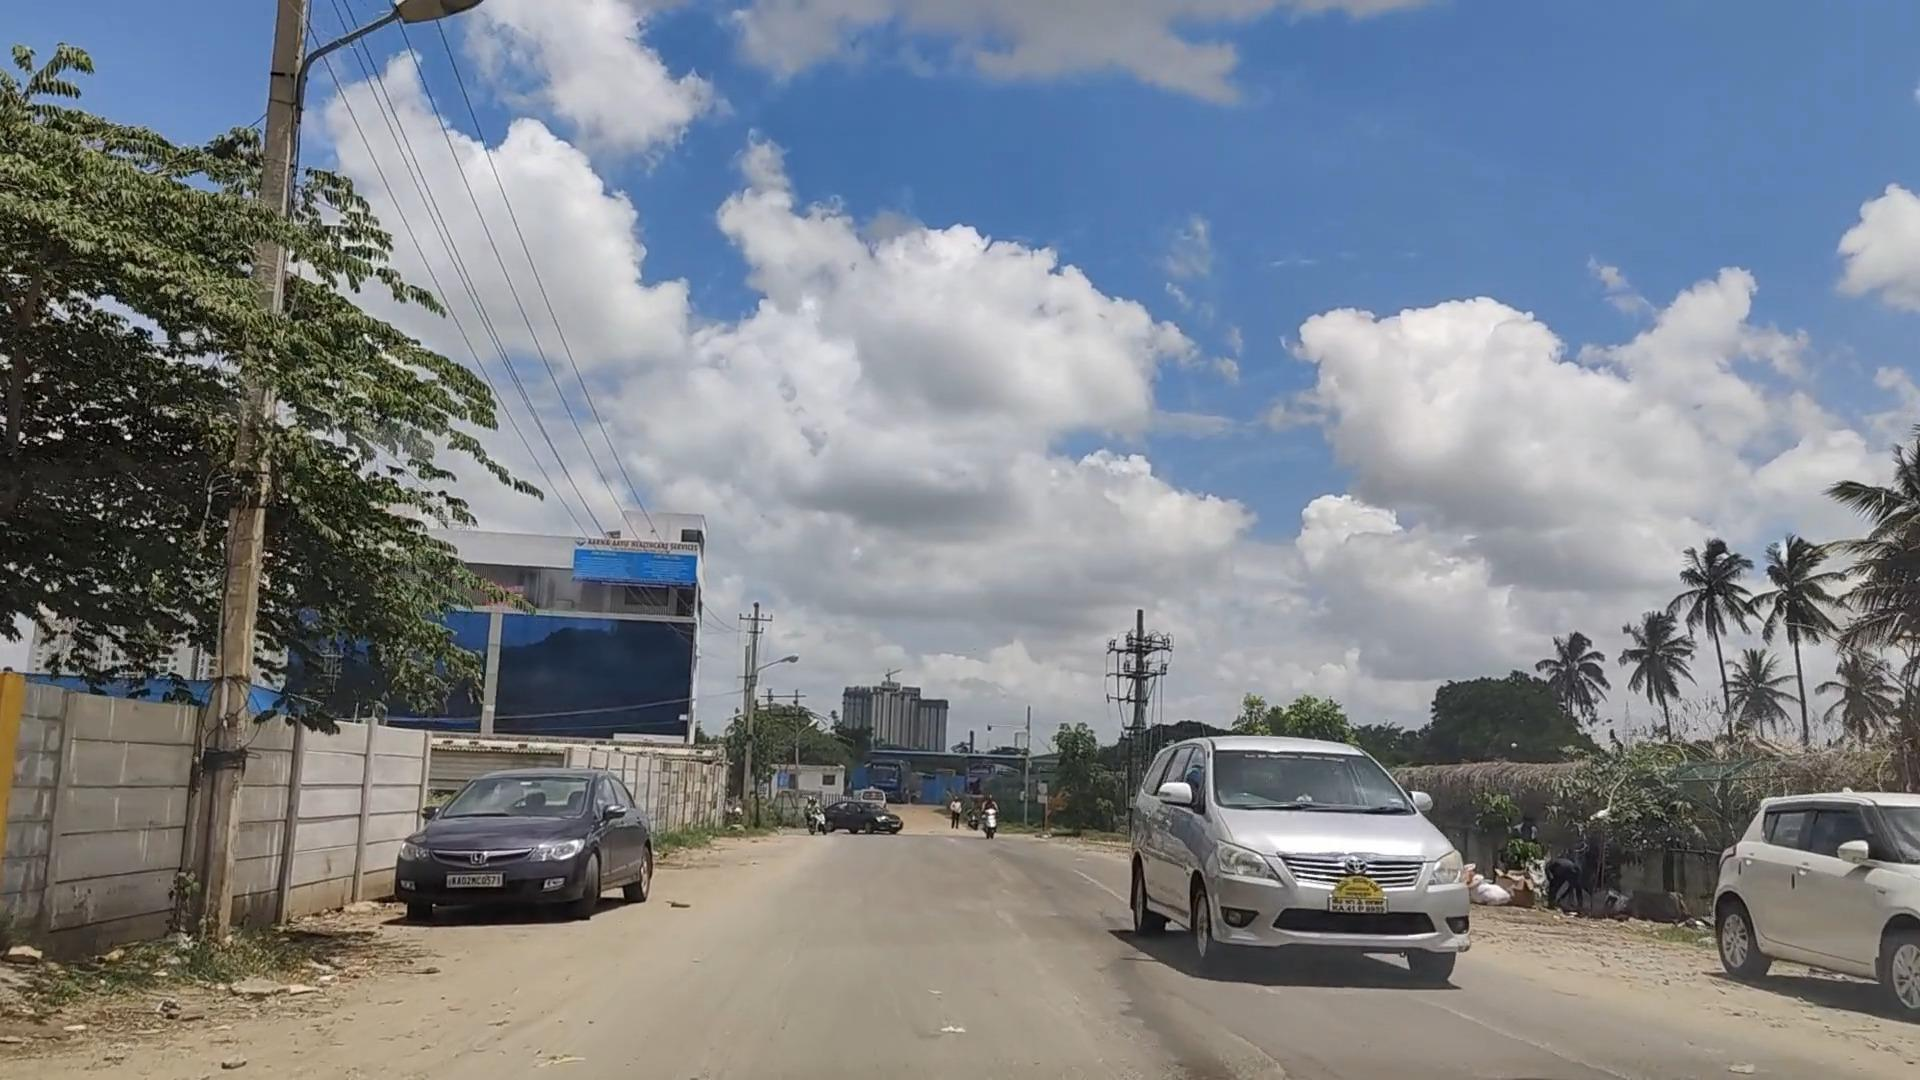LMV: (1068, 708, 1487, 1001), (381, 733, 663, 944), (1713, 748, 1920, 1010)
RoadDamages: (1150, 960, 1298, 1080)
UnsurfacedRoad: (181, 940, 571, 1080)
